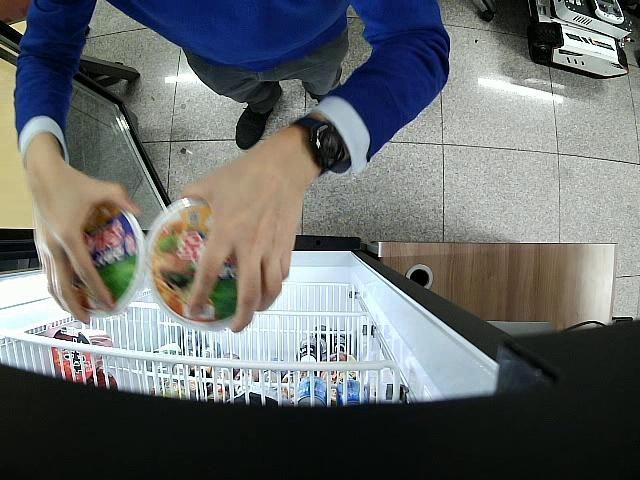09_yukGaeJang: (148, 196, 238, 329), (74, 206, 146, 315)
